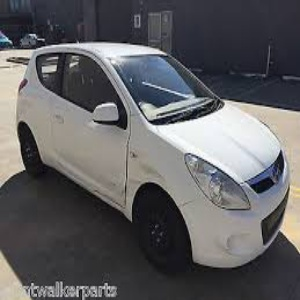bumper: (195, 221, 258, 268)
door: (90, 146, 166, 206)
